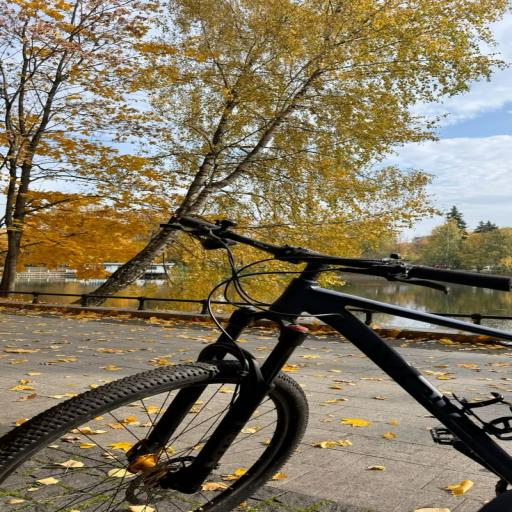bag: (0, 216, 511, 511)
